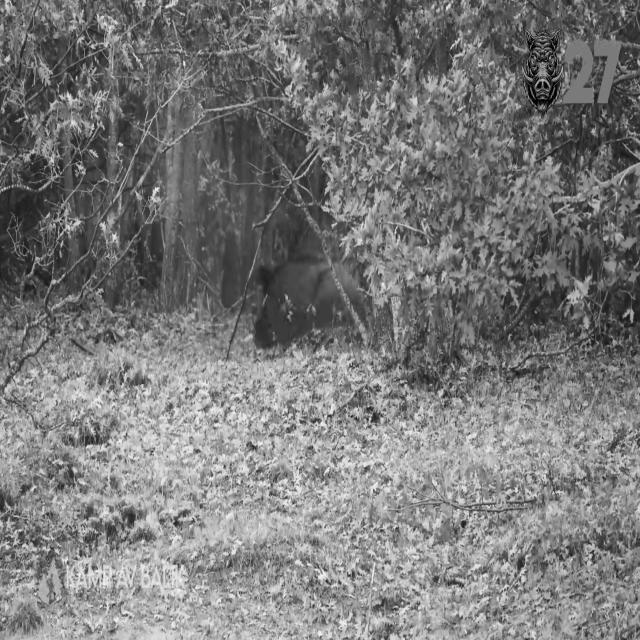boar: (255, 261, 350, 346), (522, 30, 561, 114)
